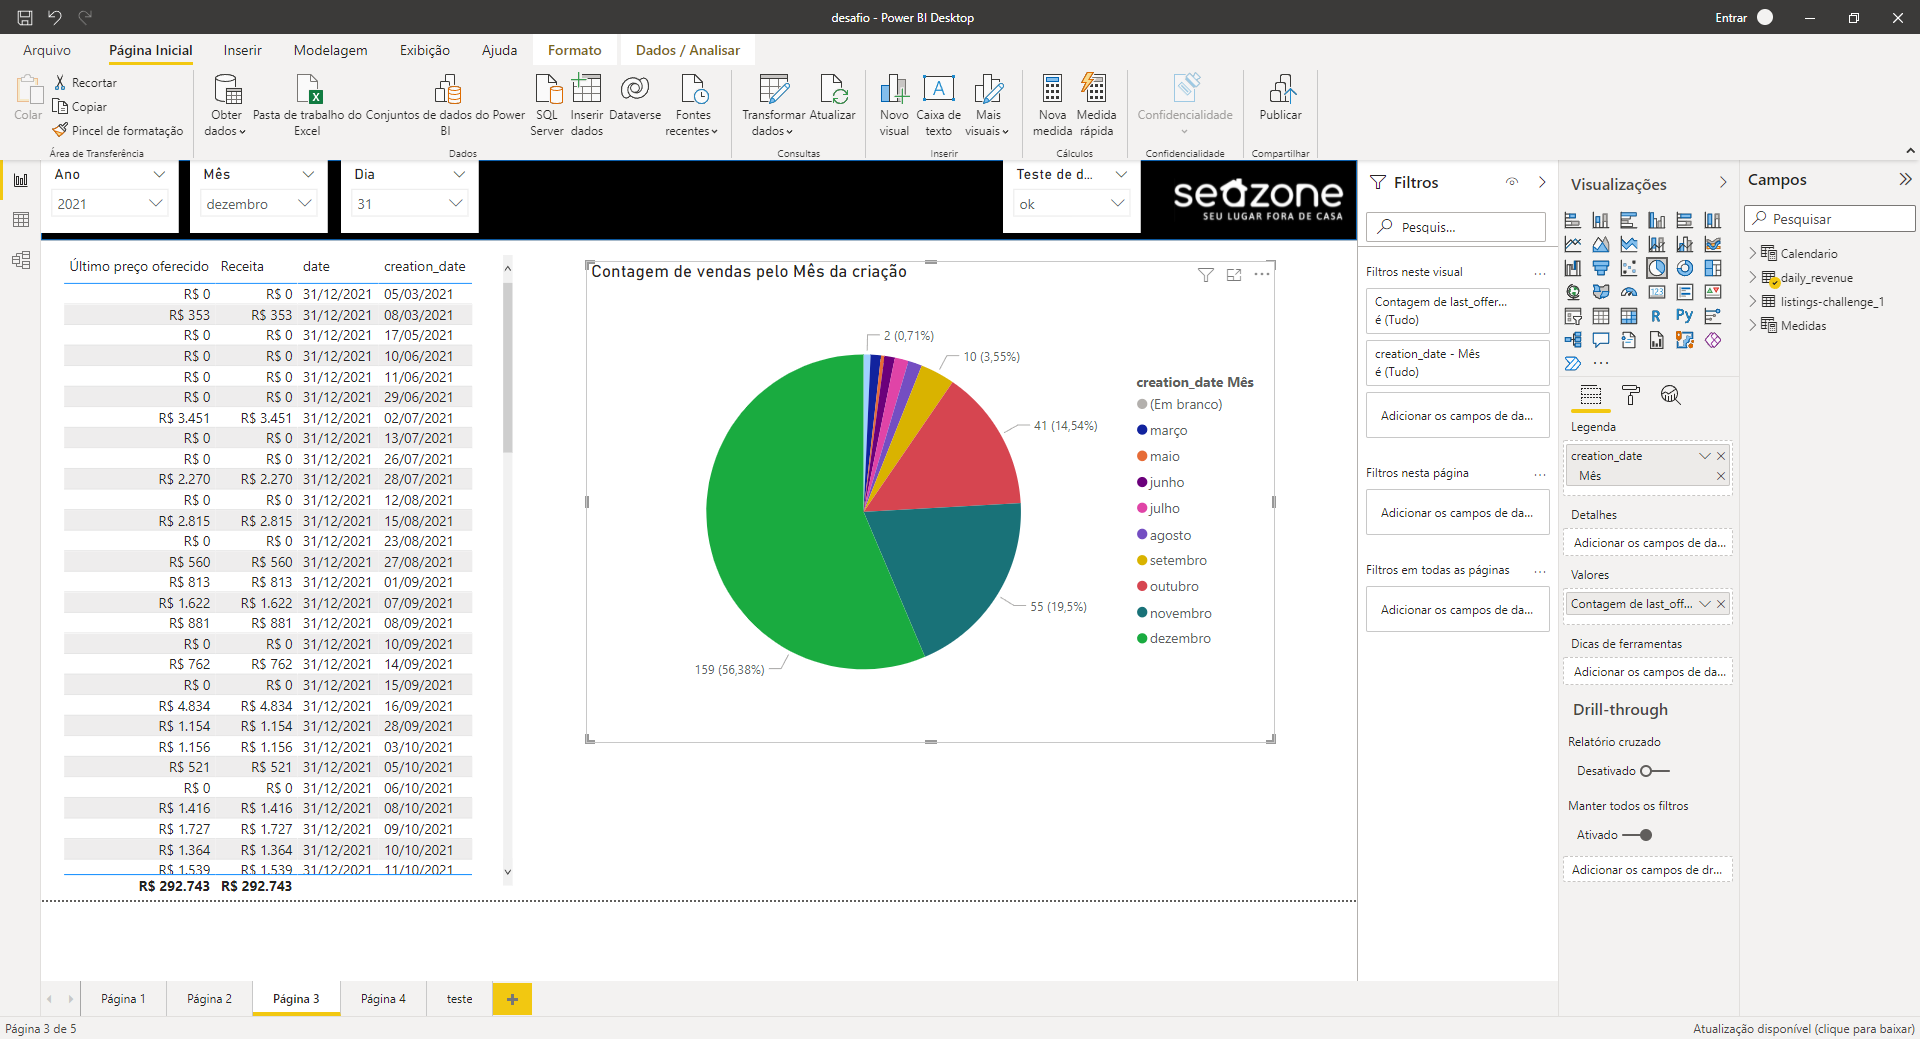

Layout of this report page (visuals, bound fields, positions):
{"tool":"powerbi","page":{"name":"Página 3","canvas":[1280,720],"ordinal":2},"visuals":[{"type":"tableEx","fields":{"Values":["Sum(daily_revenue.last_offered_price)","Sum(daily_revenue.revenue)","daily_revenue.date","daily_revenue.creation_date"]},"box":[16.5,87.5,447.4,632.2],"z":0},{"type":"shape","box":[0,0,1280,77.8],"z":1000},{"type":"slicer","fields":{"Values":["Calendario.Date.Variation.Hierarquia de datas.Ano"]},"box":[0,0,134.2,71],"z":2000},{"type":"image","box":[1097.1,0,175.1,77.8],"z":3000},{"type":"slicer","fields":{"Values":["daily_revenue.teste"]},"box":[935.7,0,134.2,71],"z":4000},{"type":"slicer","fields":{"Values":["Calendario.Date.Variation.Hierarquia de datas.Mês"]},"box":[144.9,0,134.2,71],"z":5000},{"type":"slicer","fields":{"Values":["Calendario.Date.Variation.Hierarquia de datas.Dia"]},"box":[291.8,0,134.2,71],"z":6000},{"type":"pieChart","title":"Contagem de vendas pelo Mês da criação","fields":{"Category":["daily_revenue.creation_date.Variation.Hierarquia de datas.Mês"],"Y":["CountNonNull(daily_revenue.last_offered_price)"]},"box":[530.1,98.2,670.2,468.8],"z":7000}]}

Visuals, with their boxes on the page's 1280x720 design canvas (x1, y1, x2, y2). These are canvas units, not pixel positions in the 1920x1039 screenshot, which may show the page scaled, cropped or inside an application window:
tableEx - Sum(daily_revenue.last_offered_price) x Sum(daily_revenue.revenue): {"left": 16, "top": 88, "right": 464, "bottom": 720}
shape: {"left": 0, "top": 0, "right": 1280, "bottom": 78}
slicer - Calendario.Date.Variation.Hierarquia de datas.Ano: {"left": 0, "top": 0, "right": 134, "bottom": 71}
image: {"left": 1097, "top": 0, "right": 1272, "bottom": 78}
slicer - daily_revenue.teste: {"left": 936, "top": 0, "right": 1070, "bottom": 71}
slicer - Calendario.Date.Variation.Hierarquia de datas.Mês: {"left": 145, "top": 0, "right": 279, "bottom": 71}
slicer - Calendario.Date.Variation.Hierarquia de datas.Dia: {"left": 292, "top": 0, "right": 426, "bottom": 71}
"Contagem de vendas pelo Mês da criação" pieChart: {"left": 530, "top": 98, "right": 1200, "bottom": 567}
